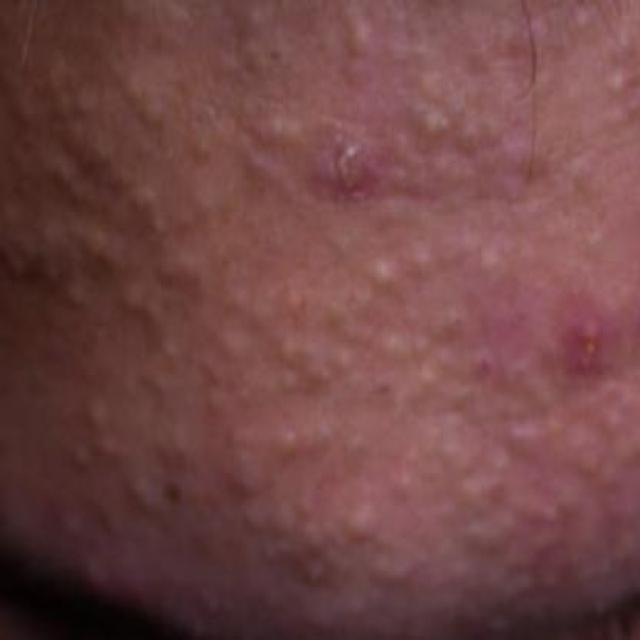pustules: (411, 94, 451, 144)
whiteheads: (345, 248, 403, 308), (354, 237, 408, 300), (397, 237, 446, 280), (397, 240, 440, 284), (386, 458, 420, 508), (270, 422, 308, 461)
